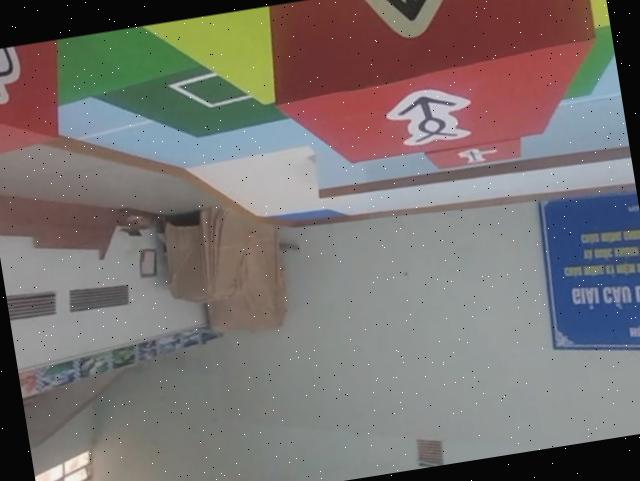R2 Real: (256, 0, 608, 175), (0, 38, 76, 162)
